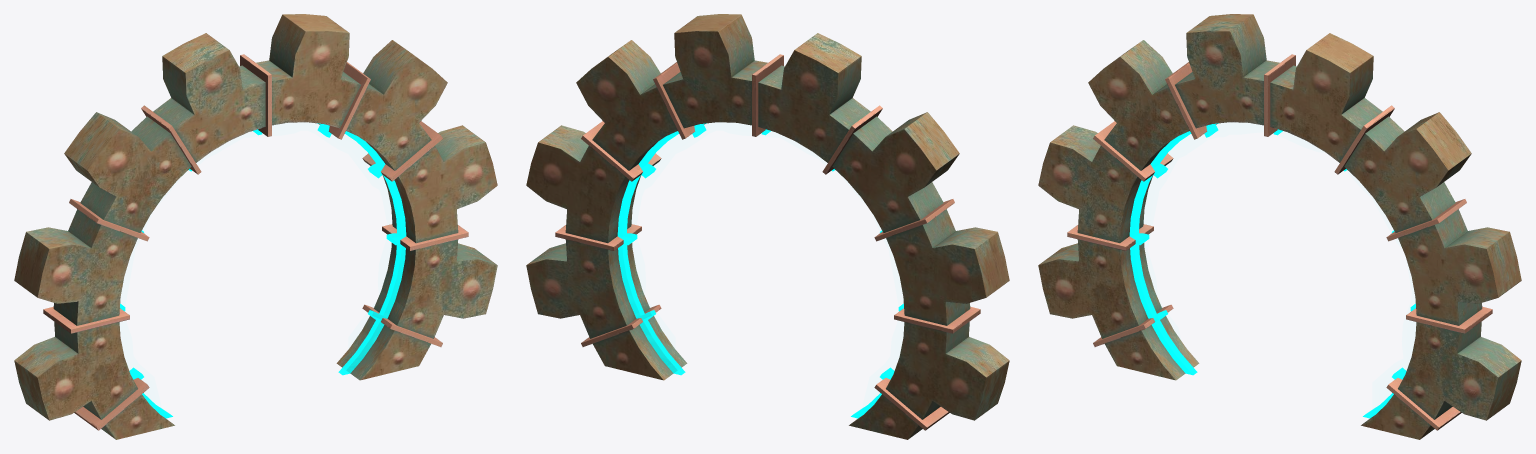
3 renders of one model, left to right at view 1: azimuth 30°, elevation 25°; view 2: azimuth 150°, elevation 25°; view 3: azimuth 330°, elevation 25°, orthographic.
Parts seen in each view (by area): view 1: steampunkCheckpoint; view 2: steampunkCheckpoint; view 3: steampunkCheckpoint.
Part boxes in pixels (x1=…): steampunkCheckpoint: x1=14, y1=14, x2=497, y2=439; steampunkCheckpoint: x1=526, y1=14, x2=1009, y2=439; steampunkCheckpoint: x1=1038, y1=14, x2=1521, y2=439.
Size of what is drawn, in the model's own units: 5.21 by 3.92 by 0.5475.
2 materials, 2 textured.
